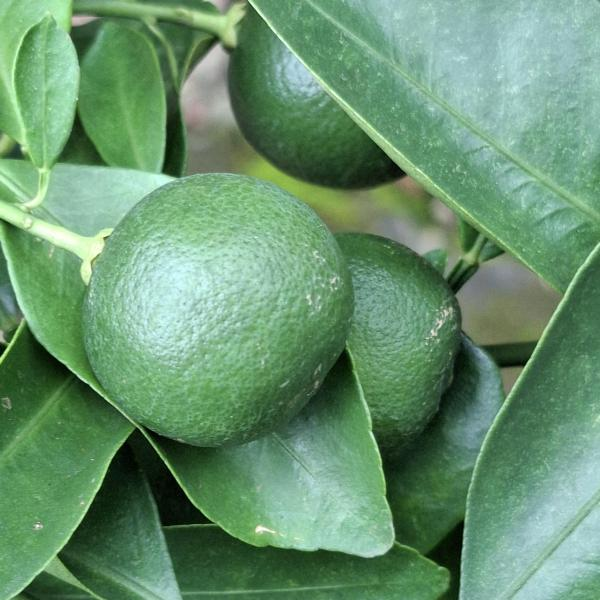Scab: (73, 164, 361, 465), (291, 214, 484, 475)
